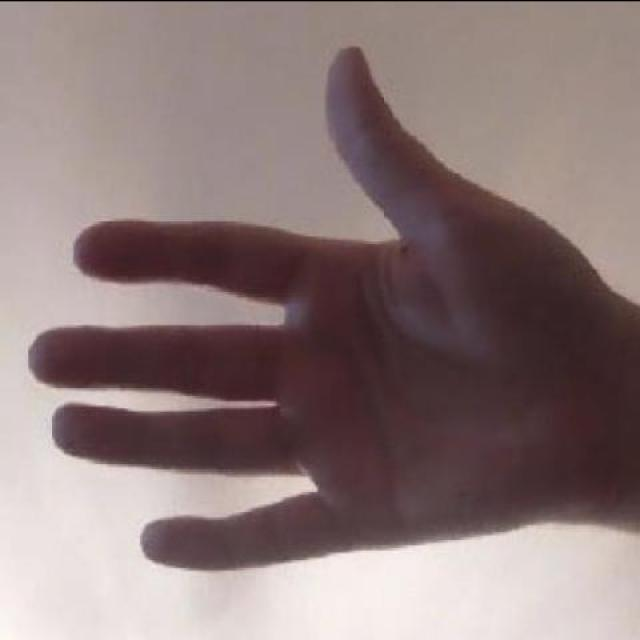Open Hand: (24, 37, 640, 594)
